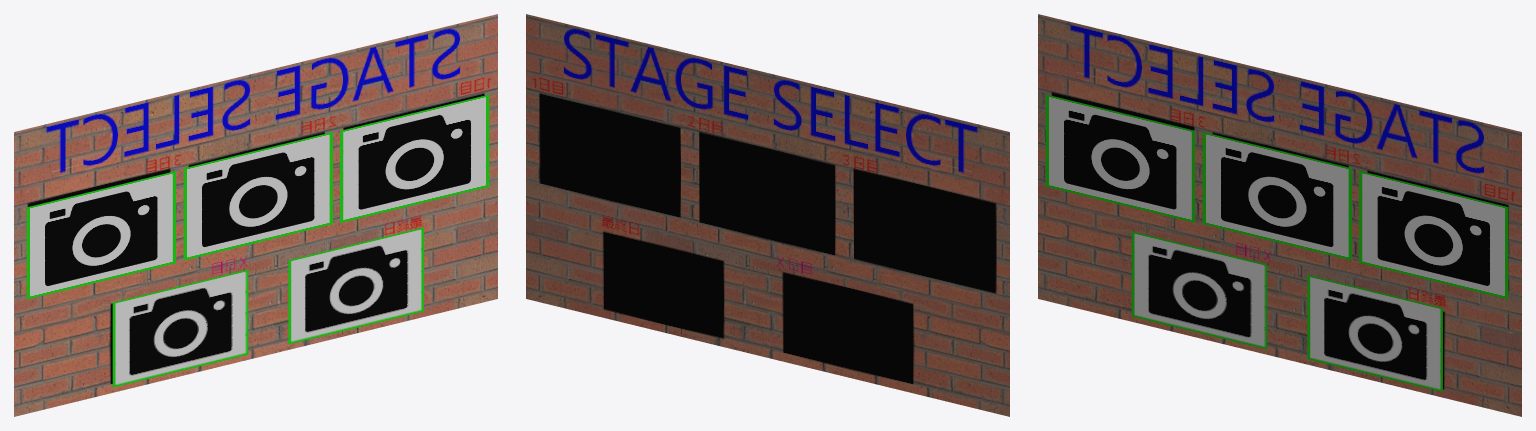
Rendered from StageSelect.FBX.
The picture shows the model from 3 angles, left to right: view 1: azimuth 30°, elevation 25°; view 2: azimuth 150°, elevation 25°; view 3: azimuth 330°, elevation 25°; orthographic projection.
Parts seen in each view (by area): view 1: Plane001, Plane002, Plane003, Plane004, Plane005, Plane006; view 2: Plane001; view 3: Plane001, Plane004, Plane003, Plane002, Plane005, Plane006.
Part boxes in pixels (x1,y1,x2,y2): Plane001: (14,14,497,416); Plane002: (26,171,175,299); Plane003: (183,132,332,260); Plane004: (340,94,489,222); Plane005: (112,269,248,387); Plane006: (288,227,423,344); Plane001: (526,14,1009,416); Plane001: (1038,14,1521,416); Plane004: (1359,170,1508,299); Plane003: (1202,132,1351,260); Plane002: (1045,94,1194,222); Plane005: (1131,231,1267,349); Plane006: (1307,275,1442,391).
Size of the model in its own units: 549 by 4.92 by 309.
Materials: 2 (2 with a texture image).
